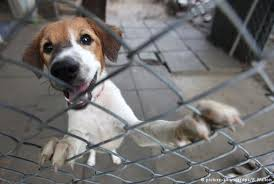dog: (24, 18, 129, 109)
